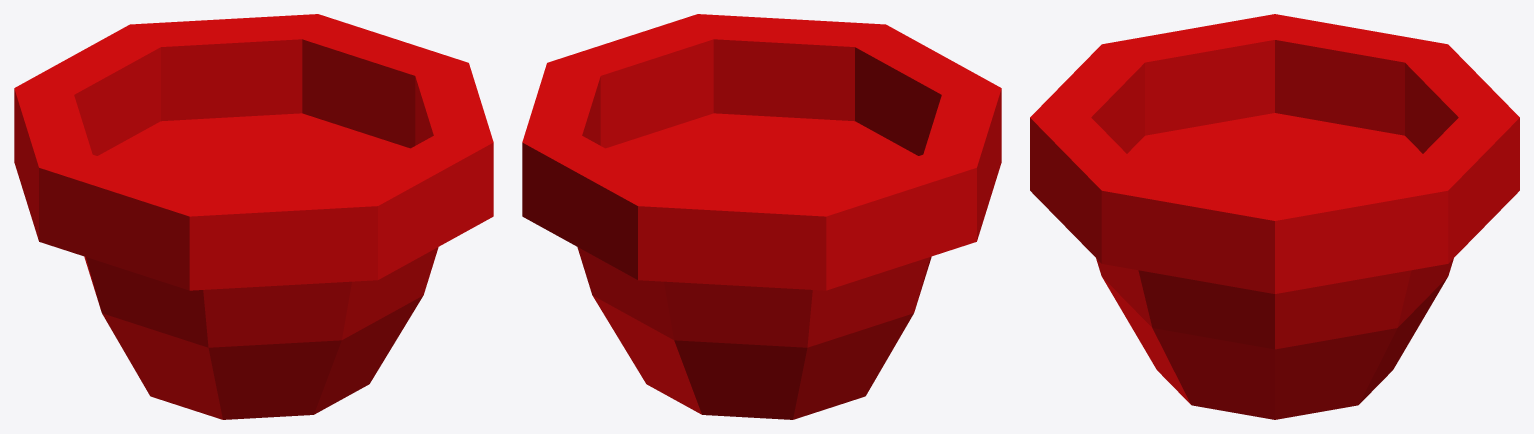
Rendered from pot_no_outline.fbx.
3 renders of one model, left to right at view 1: azimuth 30°, elevation 25°; view 2: azimuth 150°, elevation 25°; view 3: azimuth 270°, elevation 25°, orthographic.
Visible parts, largest first — view 1: Cylinder.018; view 2: Cylinder.018; view 3: Cylinder.018.
Part boxes in pixels (x1=…): Cylinder.018: x1=14, y1=14, x2=493, y2=419; Cylinder.018: x1=522, y1=14, x2=1001, y2=419; Cylinder.018: x1=1030, y1=14, x2=1519, y2=419.
Bounding box in the file's own units: 303 × 173 × 303.
